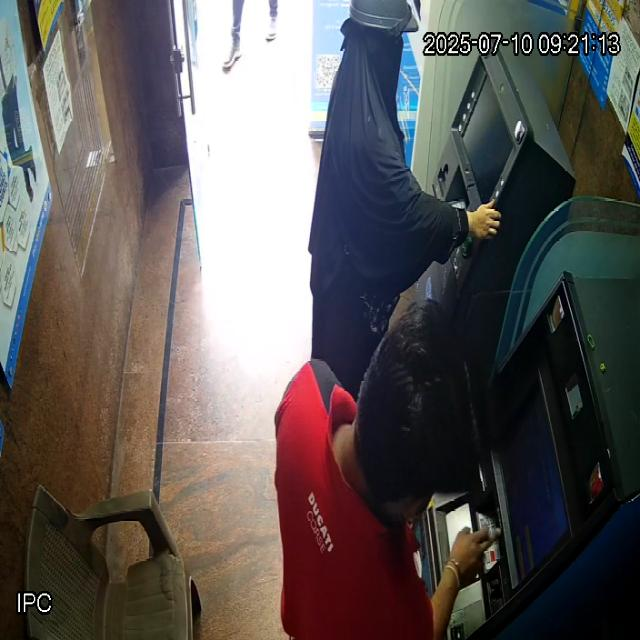helmet: (339, 0, 418, 69)
no_helmet: (332, 299, 477, 527)
